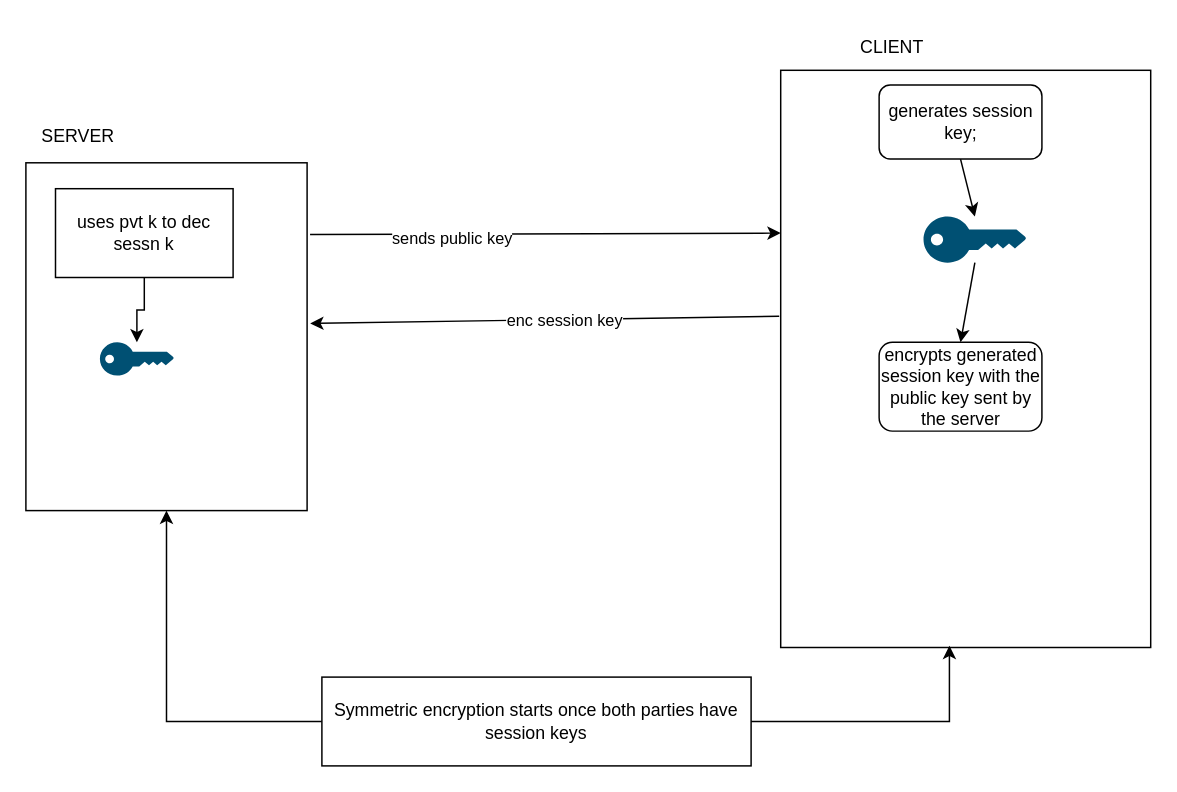
The diagram is 1177 pixels wide and 792 high, and some of its shapes have lost their labels. The shapes that lost their labels are listed below. From the top down, each one's box as (x1, y1, x2, y2) in pixels, then its label:
(923, 216, 1025, 262): client has session key
(99, 342, 173, 375): server has session key
